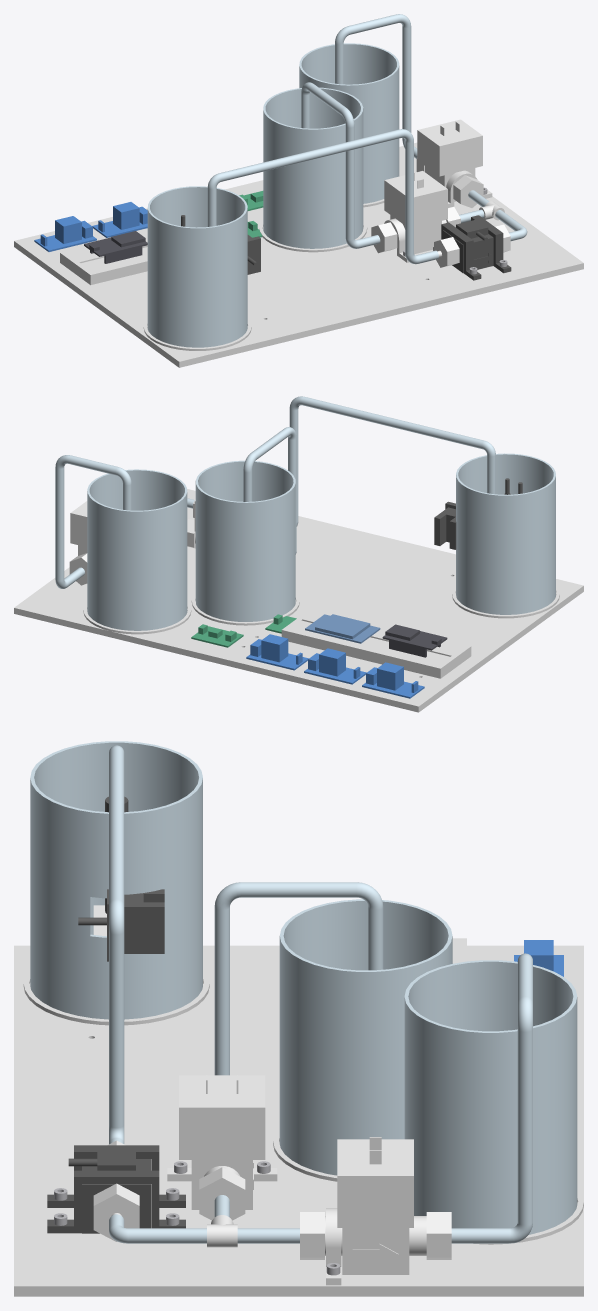
Rendered from as_built_r3.glb.
3 views of the same model, one above another, from view 1: azimuth 30°, elevation 25°; view 2: azimuth 150°, elevation 25°; view 3: azimuth 270°, elevation 25° (orthographic). The views are drawn at different scales.
Visible parts, largest first — view 1: NAUO1, NAUO2, NAUO4, NAUO3, NAUO44, NAUO14, NAUO15, NAUO32, NAUO30, NAUO36, NAUO6, NAUO39 (+8 smaller); view 2: NAUO1, NAUO4, NAUO3, NAUO2, NAUO36, NAUO44, NAUO30, NAUO32, NAUO38, NAUO41, NAUO39, NAUO40 (+4 smaller); view 3: NAUO1, NAUO3, NAUO2, NAUO4, NAUO14, NAUO15, NAUO32, NAUO44, NAUO30, NAUO35, NAUO6, NAUO10 (+10 smaller).
Part boxes in pixels (<box>): NAUO1: <box>14,142,583,367</box>; NAUO2: <box>147,186,247,347</box>; NAUO4: <box>263,87,363,248</box>; NAUO3: <box>299,43,399,203</box>; NAUO44: <box>207,129,438,264</box>; NAUO14: <box>417,119,482,201</box>; NAUO15: <box>384,171,447,254</box>; NAUO32: <box>301,82,380,248</box>; NAUO30: <box>335,14,417,158</box>; NAUO36: <box>60,231,147,285</box>; NAUO6: <box>443,219,493,273</box>; NAUO39: <box>34,216,96,251</box>; NAUO1: <box>14,489,583,712</box>; NAUO4: <box>195,460,295,621</box>; NAUO3: <box>87,469,187,630</box>; NAUO2: <box>456,453,555,614</box>; NAUO36: <box>281,607,471,678</box>; NAUO44: <box>289,396,495,526</box>; NAUO30: <box>55,455,131,588</box>; NAUO32: <box>243,427,296,554</box>; NAUO38: <box>305,614,380,643</box>; NAUO41: <box>246,634,308,670</box>; NAUO39: <box>362,662,424,698</box>; NAUO40: <box>304,648,366,684</box>; NAUO1: <box>14,945,583,1296</box>; NAUO3: <box>404,960,577,1234</box>; NAUO2: <box>30,741,202,1019</box>; NAUO4: <box>279,899,452,1175</box>; NAUO14: <box>325,1137,426,1274</box>; NAUO15: <box>179,1075,265,1209</box>; NAUO32: <box>214,882,383,1075</box>; NAUO44: <box>109,745,124,1144</box>; NAUO30: <box>451,953,532,1243</box>; NAUO35: <box>78,889,164,961</box>; NAUO6: <box>68,1147,151,1233</box>; NAUO10: <box>47,1170,185,1233</box>.
Bounding box in the file's own units: 0.42 × 0.154 × 0.297.
